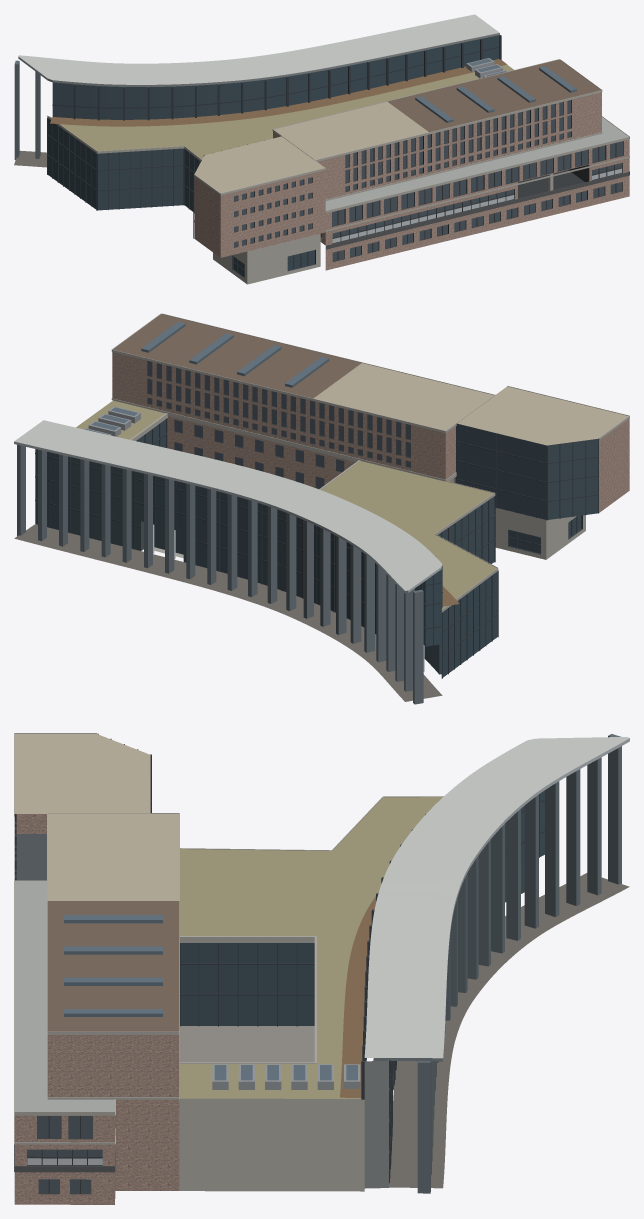
3 renders of one model, top to bottom at view 1: azimuth 30°, elevation 25°; view 2: azimuth 150°, elevation 25°; view 3: azimuth 270°, elevation 25°, orthographic. The views are drawn at different scales.
Parts seen in each view (by area): view 1: centennial__brick, centennial__curtain-glass, centennial__window-glass, centennial__roof, centennial__narrow-roof, centennial__stone, centennial__roof-lawn, centennial__bar-roof, centennial__window-frame, centennial__mullion, centennial__roof-deck, centennial__flat-roof (+6 smaller); view 2: centennial__curtain-glass, centennial__pier, centennial__brick, centennial__roof, centennial__narrow-roof, centennial__roof-lawn, centennial__bar-roof, centennial__mullion, centennial__window-glass, centennial__stone, centennial__colonnade-paving, centennial__window-frame (+4 smaller); view 3: centennial__roof-lawn, centennial__roof, centennial__narrow-roof, centennial__pier, centennial__brick, centennial__low-cladding, centennial__bar-roof, centennial__curtain-glass, centennial__colonnade-paving, centennial__flat-roof, centennial__court-floor, centennial__stone (+10 smaller).
Part boxes in pixels (left/top/right/bottom): centennial__brick: left=194, top=92, right=629, bottom=270; centennial__curtain-glass: left=47, top=35, right=499, bottom=277; centennial__window-glass: left=234, top=100, right=622, bottom=261; centennial__roof: left=18, top=14, right=499, bottom=84; centennial__narrow-roof: left=194, top=101, right=428, bottom=193; centennial__stone: left=47, top=59, right=629, bottom=284; centennial__roof-lawn: left=49, top=64, right=513, bottom=159; centennial__bar-roof: left=388, top=59, right=601, bottom=132; centennial__window-frame: left=234, top=100, right=623, bottom=261; centennial__mullion: left=47, top=35, right=501, bottom=278; centennial__roof-deck: left=50, top=59, right=506, bottom=126; centennial__flat-roof: left=325, top=117, right=628, bottom=210; centennial__curtain-glass: left=35, top=419, right=598, bottom=678; centennial__pier: left=17, top=445, right=423, bottom=704; centennial__brick: left=112, top=352, right=629, bottom=512; centennial__roof: left=14, top=420, right=442, bottom=590; centennial__narrow-roof: left=313, top=363, right=628, bottom=445; centennial__roof-lawn: left=76, top=400, right=497, bottom=609; centennial__bar-roof: left=113, top=314, right=361, bottom=398; centennial__mullion: left=35, top=418, right=598, bottom=678; centennial__window-glass: left=148, top=361, right=599, bottom=488; centennial__stone: left=111, top=313, right=629, bottom=612; centennial__colonnade-paving: left=14, top=524, right=442, bottom=701; centennial__window-frame: left=147, top=361, right=410, bottom=489; centennial__roof-lawn: left=180, top=797, right=442, bottom=1098; centennial__roof: left=364, top=737, right=629, bottom=1058; centennial__narrow-roof: left=14, top=734, right=179, bottom=900; centennial__pier: left=417, top=734, right=621, bottom=1193; centennial__brick: left=14, top=814, right=179, bottom=1204; centennial__low-cladding: left=179, top=1098, right=364, bottom=1191; centennial__bar-roof: left=47, top=901, right=179, bottom=1031; centennial__curtain-glass: left=180, top=790, right=544, bottom=1183; centennial__colonnade-paving: left=389, top=873, right=629, bottom=1188; centennial__flat-roof: left=14, top=881, right=115, bottom=1111; centennial__court-floor: left=180, top=1026, right=314, bottom=1062; centennial__stone: left=14, top=733, right=443, bottom=1144.
Bounding box in the file's own units: 94.62 × 21.95 × 74.84.
Materials: 26 (1 with a texture image).
